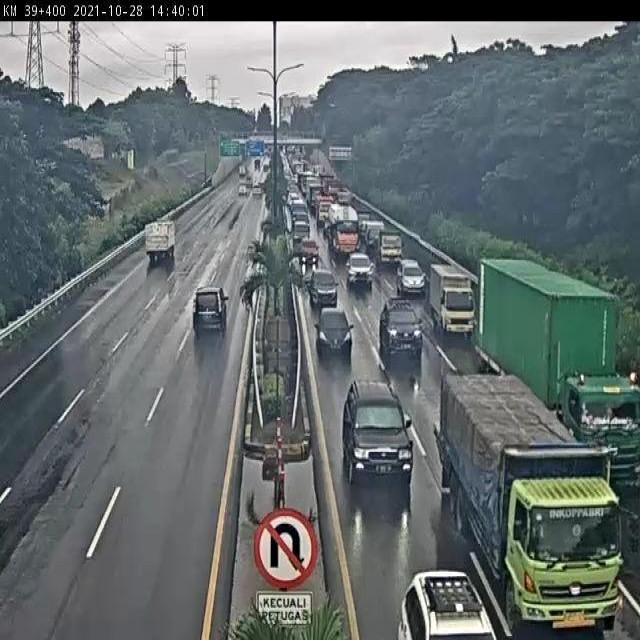big truck: (439, 370, 625, 640), (477, 259, 640, 488), (325, 196, 358, 253)
car: (343, 377, 415, 480), (379, 298, 423, 354), (315, 305, 353, 355), (191, 287, 229, 333), (307, 266, 339, 306), (394, 258, 425, 294), (346, 252, 375, 287), (300, 236, 320, 265)
small truck: (424, 261, 472, 331), (143, 217, 179, 264), (375, 230, 404, 266)
